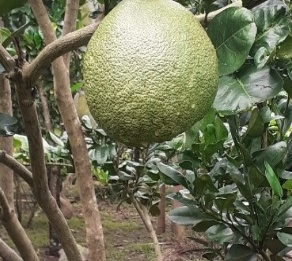Buoi: (63, 1, 220, 164)
